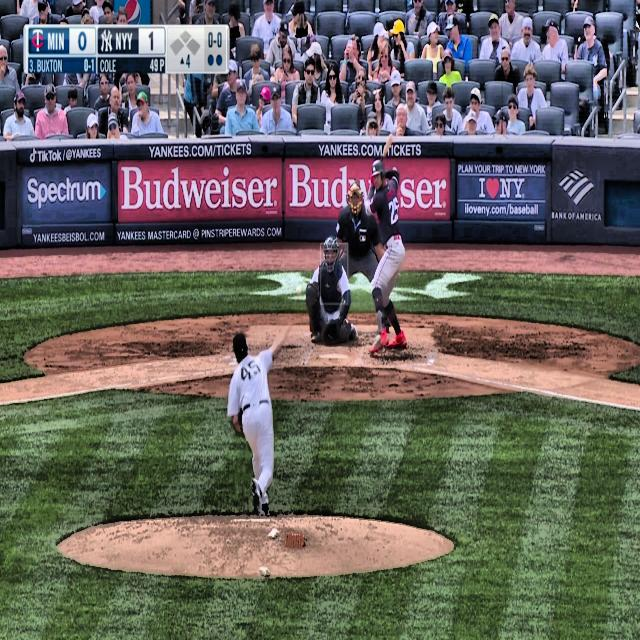baseball: (296, 284, 302, 298)
